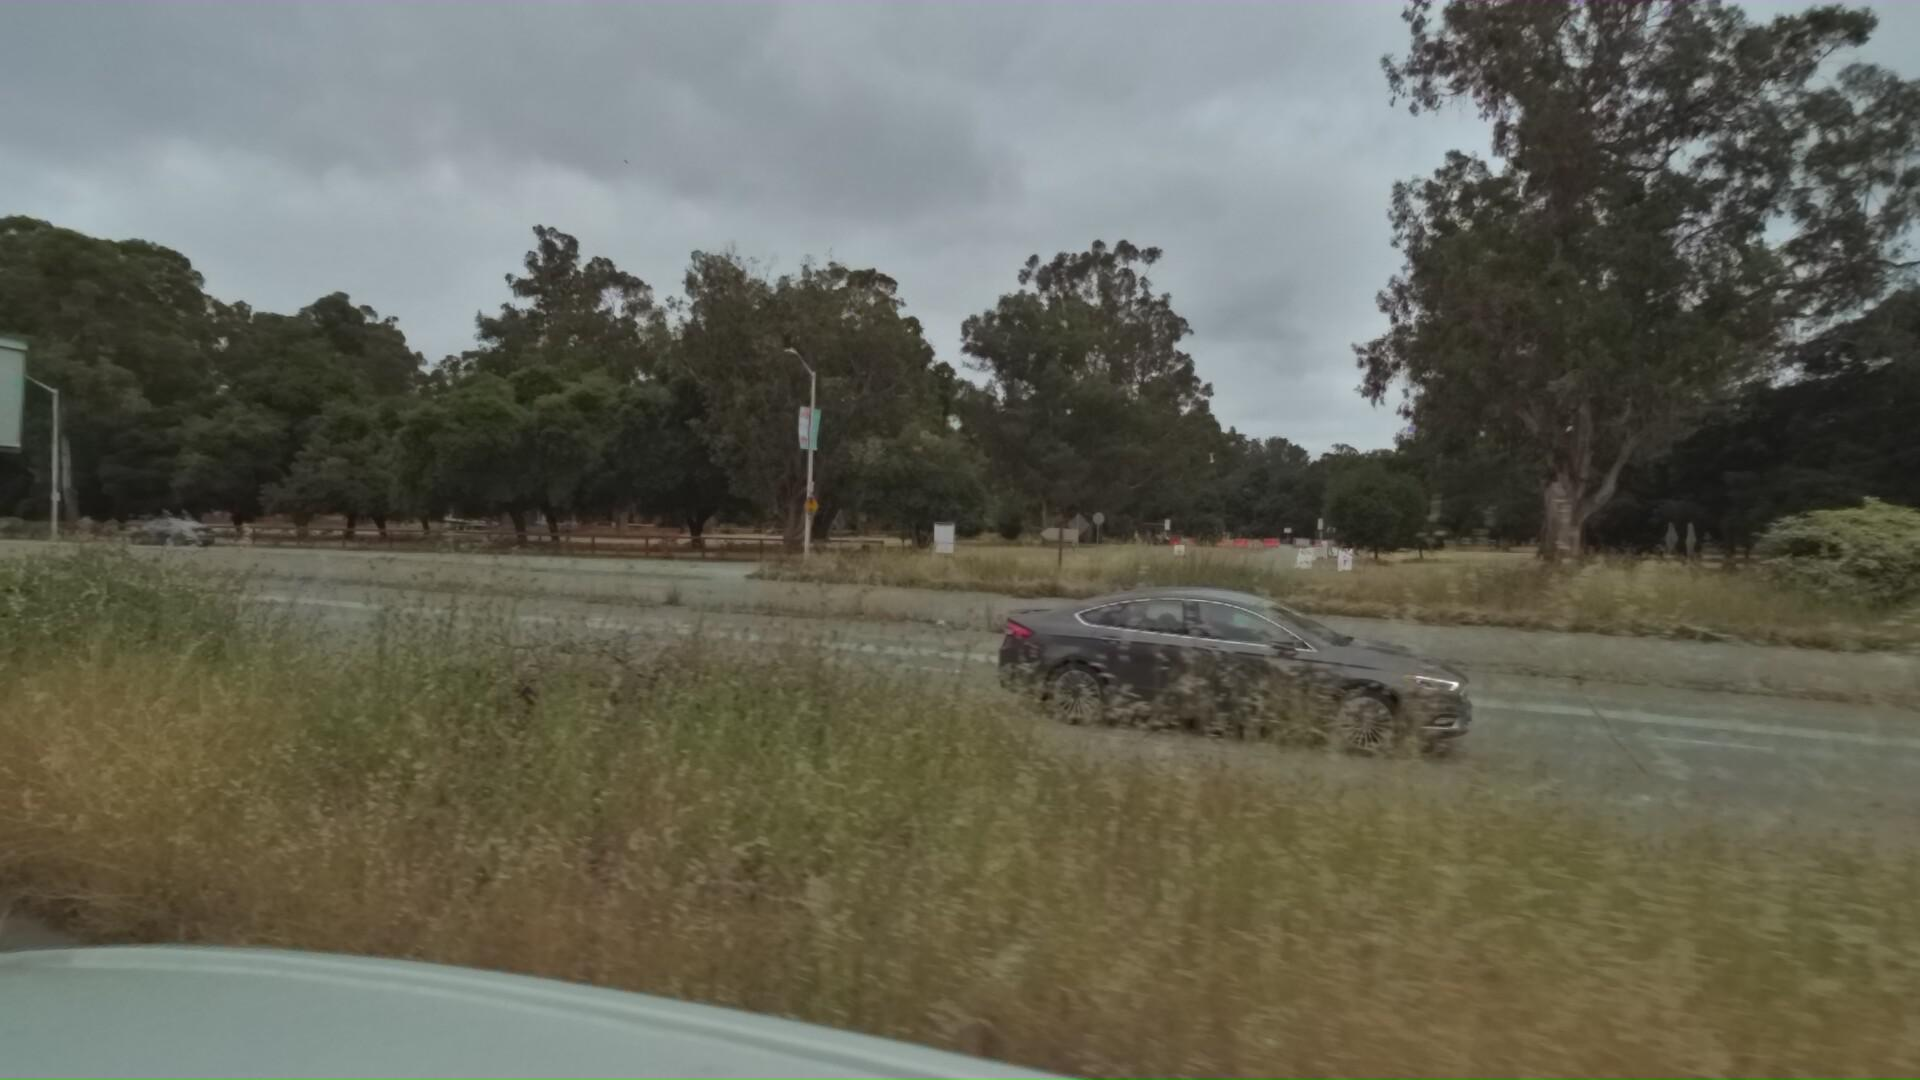car: (1009, 572, 1528, 783), (105, 518, 212, 553)
